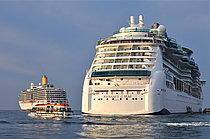Ship: (77, 14, 210, 119), (14, 73, 74, 114)
